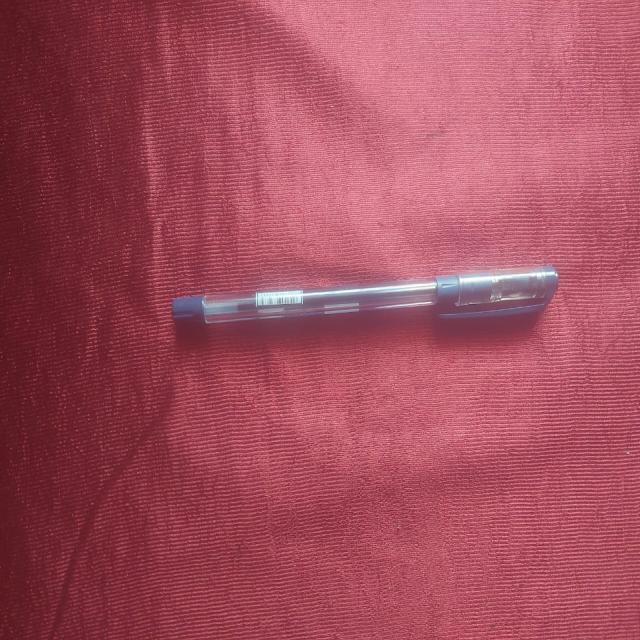blessing_card: (168, 265, 569, 335)
